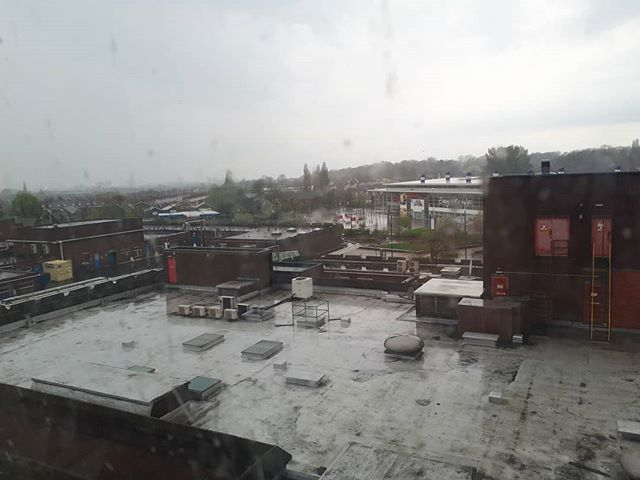building: (487, 173, 640, 338), (1, 216, 143, 286), (366, 176, 484, 229)
sky: (1, 1, 632, 143)
